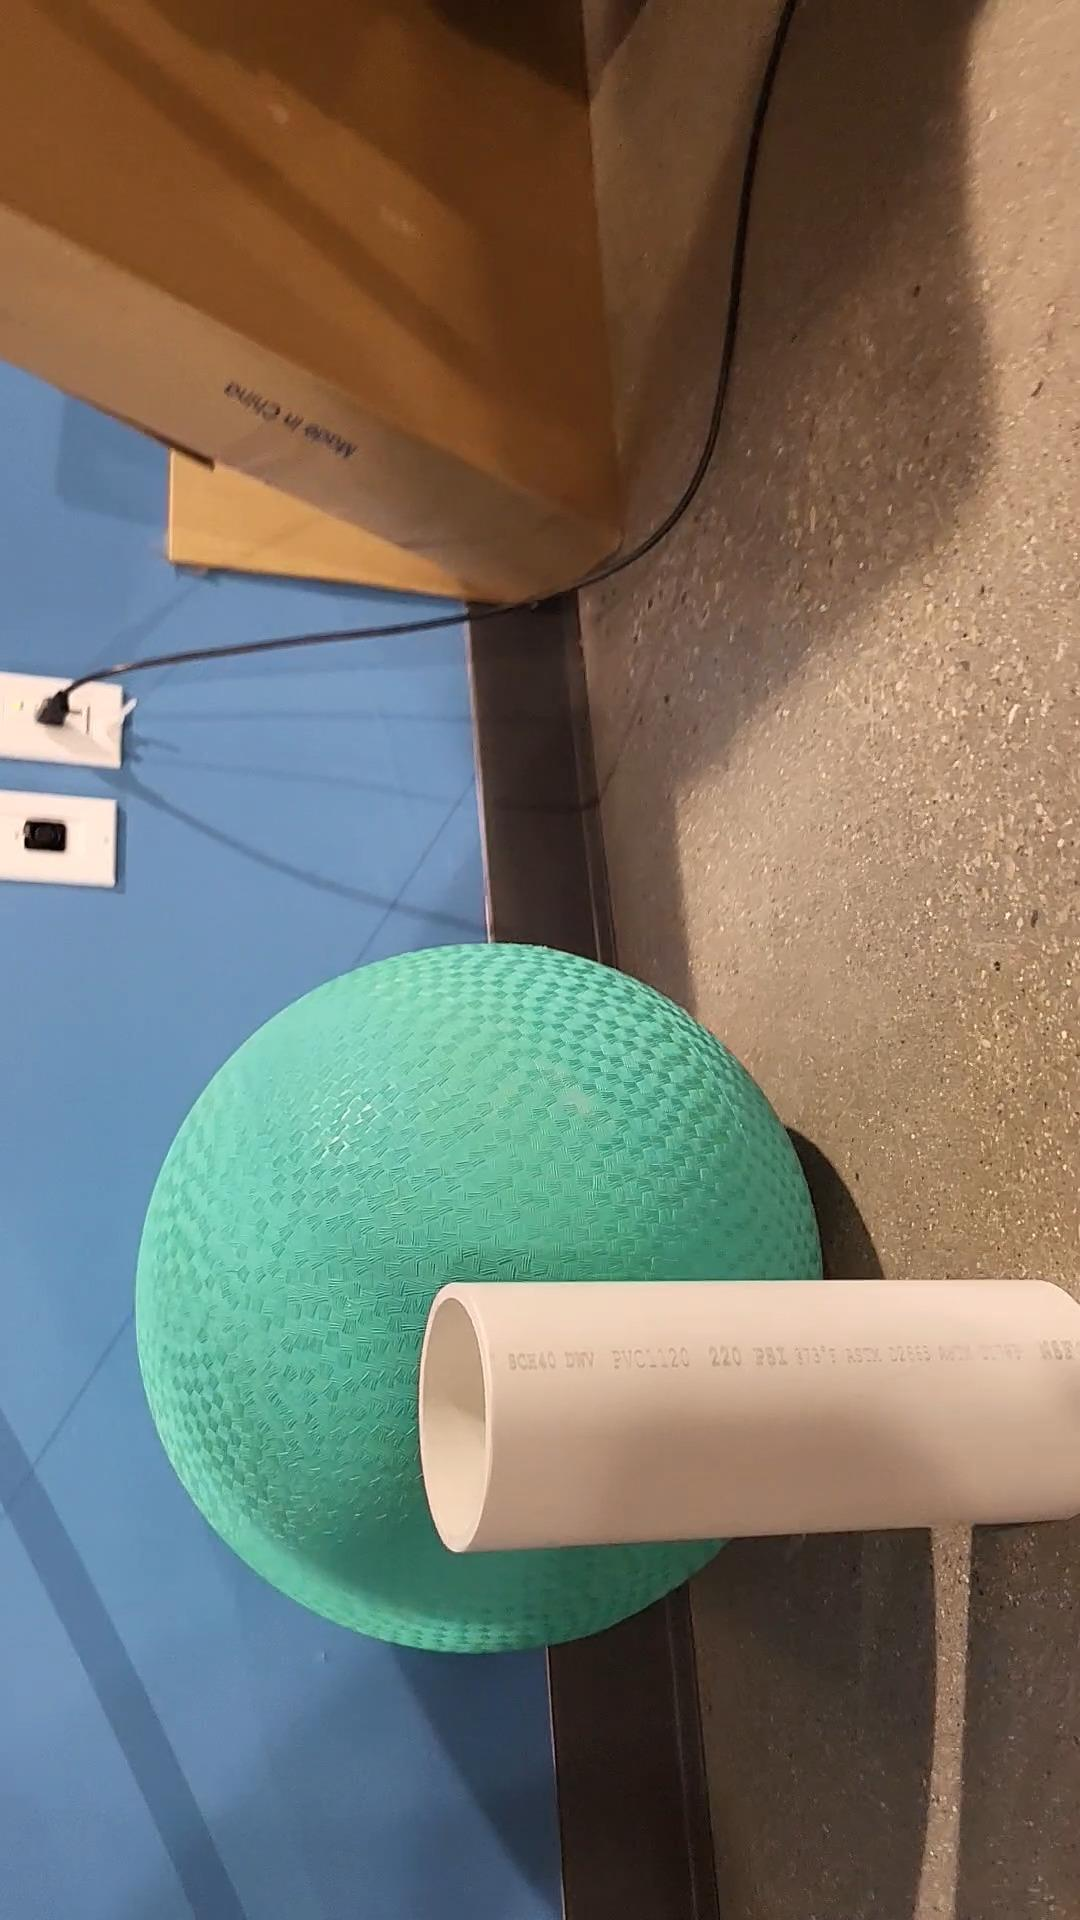algae: (142, 943, 815, 1647)
coral: (421, 1280, 1080, 1556)
